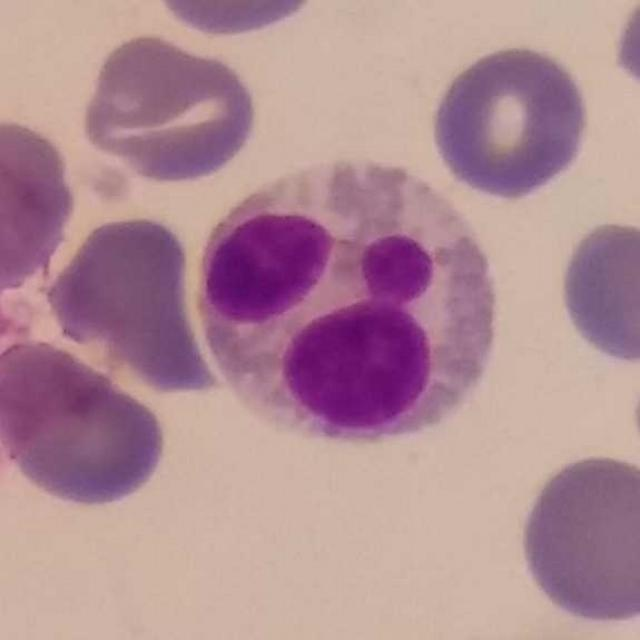Eosinophil: (193, 146, 510, 467)
Platelets: (609, 2, 640, 97)
RBC: (0, 334, 173, 513), (74, 28, 264, 187), (42, 210, 208, 382), (428, 39, 596, 204), (512, 447, 640, 630), (0, 110, 80, 300), (553, 213, 640, 369), (146, 0, 330, 41), (609, 1, 640, 100)
